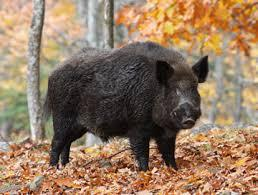wildboar: (37, 37, 212, 172)
